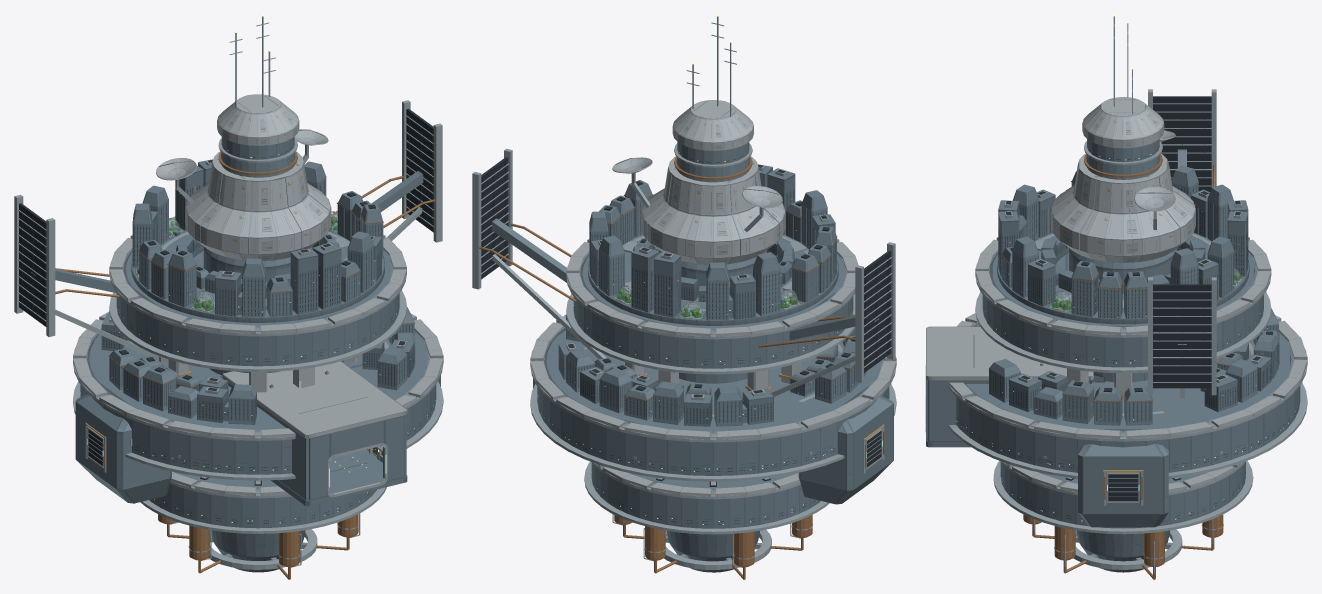
The model's file is helix.glb.
The picture shows the model from 3 angles, left to right: view 1: azimuth 30°, elevation 25°; view 2: azimuth 150°, elevation 25°; view 3: azimuth 270°, elevation 25°; orthographic projection.
Parts seen in each view (by area): view 1: helix / hull, helix / armor, helix / metal, helix / dark, helix / copper, helix / canopy; view 2: helix / hull, helix / armor, helix / metal, helix / dark, helix / copper, helix / canopy, helix / glass; view 3: helix / hull, helix / armor, helix / metal, helix / dark, helix / copper, helix / glass.
Part boxes in pixels (<box>): helix / hull: <box>31,137,440,572</box>; helix / armor: <box>73,94,443,497</box>; helix / metal: <box>14,16,443,569</box>; helix / dark: <box>19,108,433,485</box>; helix / copper: <box>55,151,435,579</box>; helix / canopy: <box>135,212,382,311</box>; helix / hull: <box>491,142,893,572</box>; helix / armor: <box>530,100,896,496</box>; helix / metal: <box>472,16,896,569</box>; helix / dark: <box>481,157,891,486</box>; helix / copper: <box>479,156,884,579</box>; helix / canopy: <box>617,286,797,318</box>; helix / glass: <box>537,148,889,524</box>; helix / hull: <box>926,139,1300,572</box>; helix / armor: <box>925,97,1307,502</box>; helix / metal: <box>948,16,1307,573</box>; helix / dark: <box>1005,96,1272,501</box>; helix / copper: <box>1001,154,1279,579</box>; helix / glass: <box>956,145,1299,521</box>.
Size of the model in its own units: 118 by 157 by 99.75.
10 materials, 4 textured.
